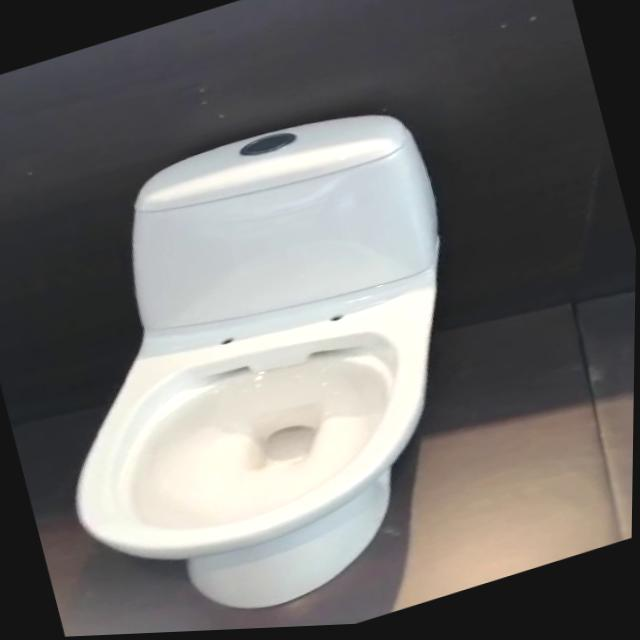toilet: (0, 85, 528, 640)
